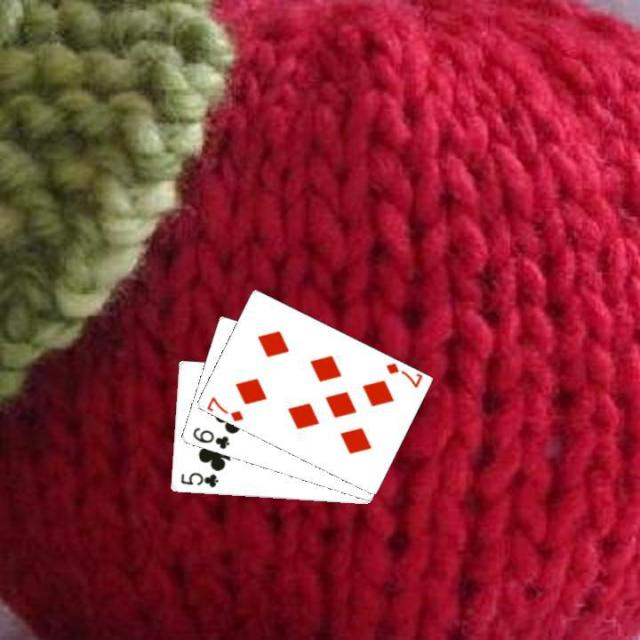5C: (176, 469, 220, 489)
6C: (189, 423, 231, 452)
7D: (203, 393, 246, 424), (381, 359, 423, 389)
